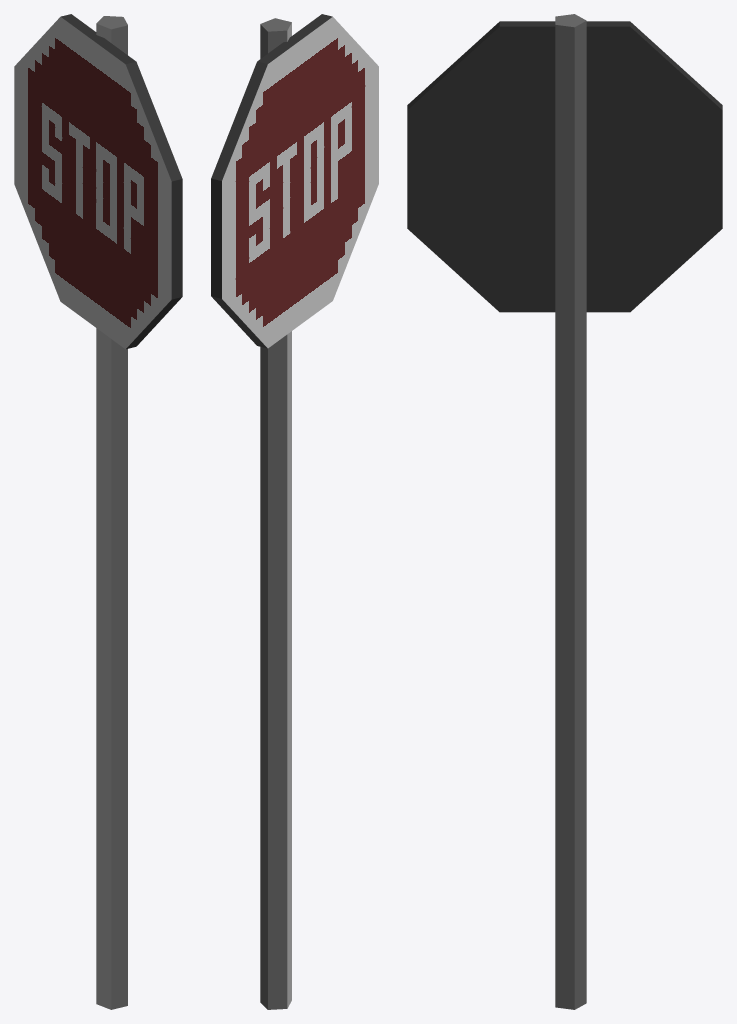
File: stop_sign.fbx
The picture shows the model from 3 angles, left to right: view 1: azimuth 30°, elevation 25°; view 2: azimuth 150°, elevation 25°; view 3: azimuth 270°, elevation 25°; orthographic projection.
Visible parts, largest first — view 1: cylinder_1, cylinder; view 2: cylinder_1, cylinder; view 3: cylinder_1, cylinder.
Part boxes in pixels (x1,y1,x2,y2): cylinder_1: [14, 14, 182, 349]; cylinder: [96, 16, 127, 1009]; cylinder_1: [211, 14, 378, 348]; cylinder: [260, 18, 291, 1009]; cylinder_1: [407, 21, 722, 312]; cylinder: [555, 14, 586, 1009].
Bounding box in the file's own units: 4.06 × 108 × 31.25.
Materials: 1 (1 with a texture image).
